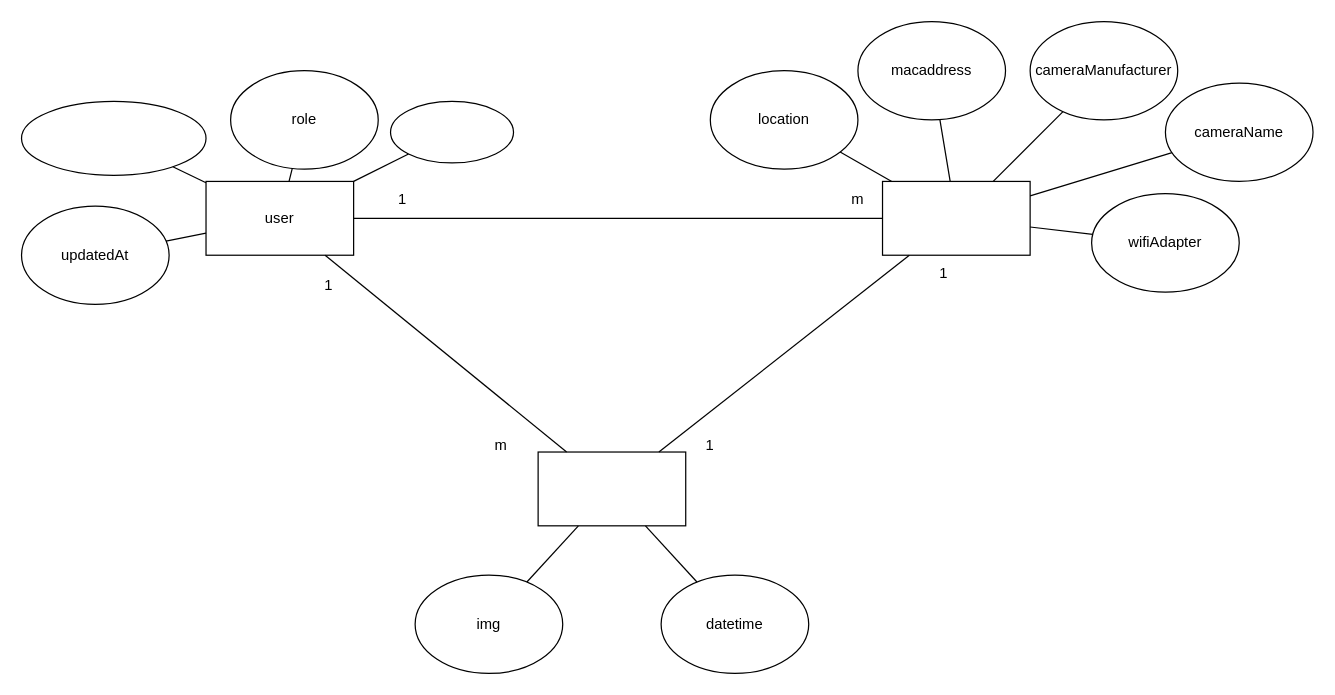
Some shapes in this 1335 by 695 pixel diagram are drawn without their labels. The centre of each missing label's shape, as x and y in pixels:
"boards" belongs at point (611, 488).
"password" belongs at point (451, 131).
"profiles" belongs at point (955, 217).
"username" belongs at point (113, 137).
